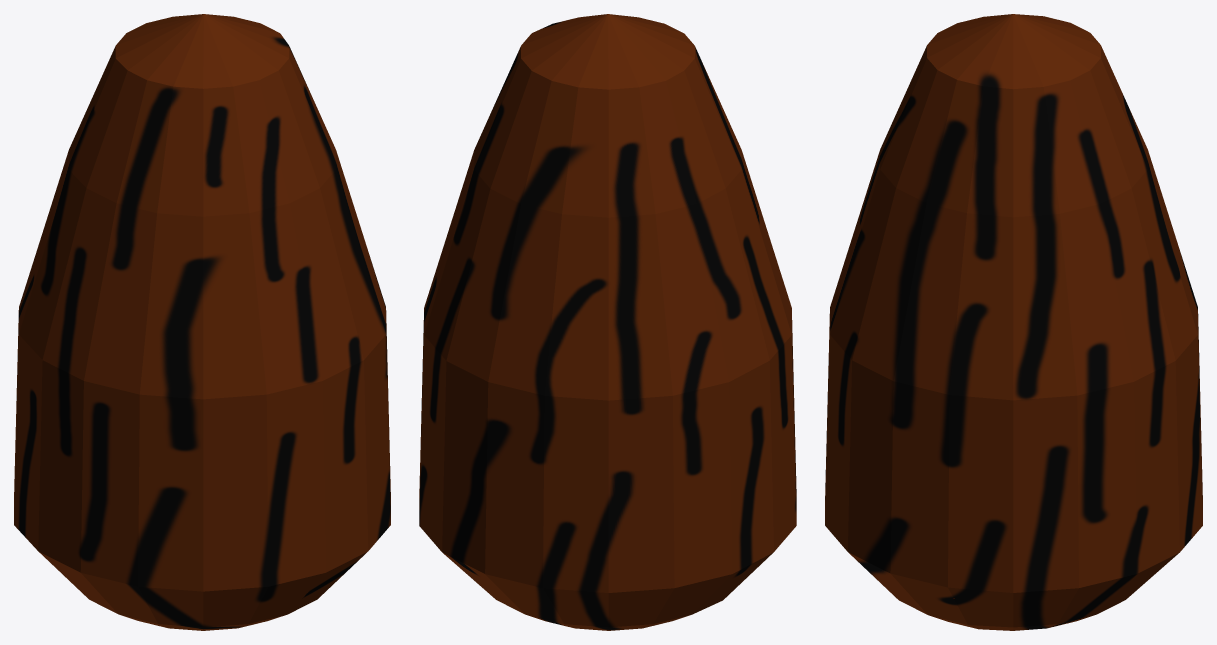
Rendered from seed.gltf.
3 views of the same model, side by side, from view 1: azimuth 30°, elevation 25°; view 2: azimuth 150°, elevation 25°; view 3: azimuth 270°, elevation 25° (orthographic).
Parts seen in each view (by area): view 1: Circle; view 2: Circle; view 3: Circle.
Part boxes in pixels (left/top/right/bottom): Circle: left=14, top=14, right=390, bottom=630; Circle: left=419, top=14, right=796, bottom=630; Circle: left=825, top=14, right=1202, bottom=630.
Bounding box in the file's own units: 0.0413 × 0.0702 × 0.0407.
1 material, 1 textured.
